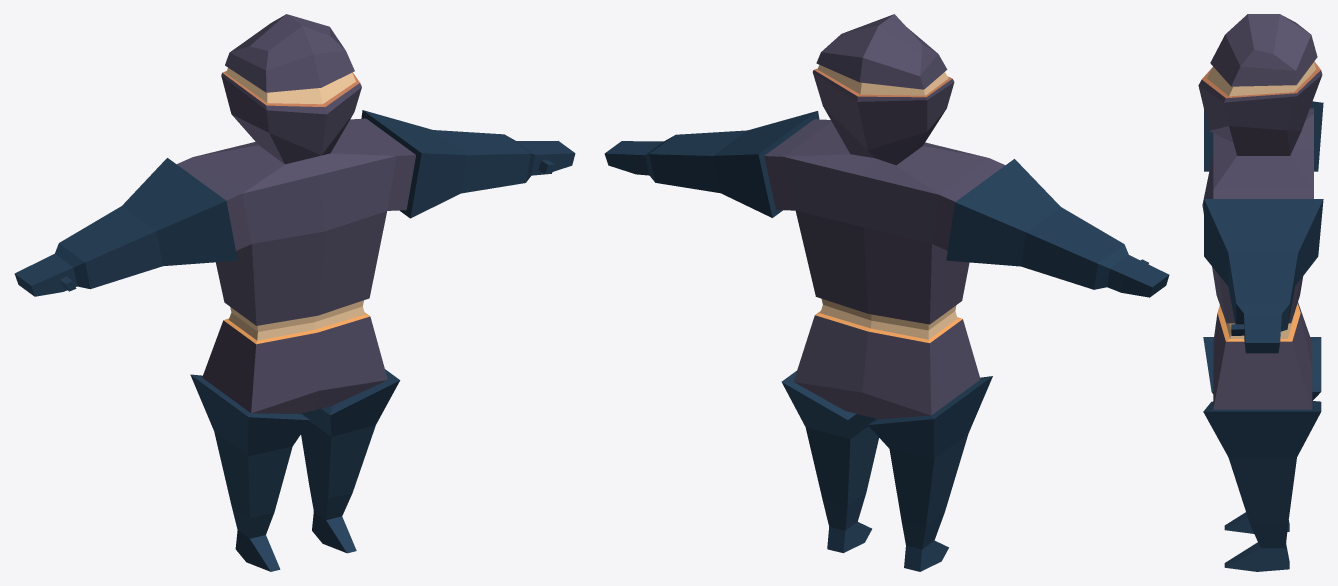
Rendered from RobotKnight.fbx.
3 renders of one model, left to right at view 1: azimuth 30°, elevation 25°; view 2: azimuth 150°, elevation 25°; view 3: azimuth 270°, elevation 25°, orthographic.
Parts seen in each view (by area): view 1: Cube; view 2: Cube; view 3: Cube.
Part boxes in pixels (x1,y1,x2,y2): Cube: (14, 14, 575, 571); Cube: (604, 14, 1169, 571); Cube: (1198, 14, 1323, 571).
Bounding box in the file's own units: 101 × 93.3 × 19.86.
